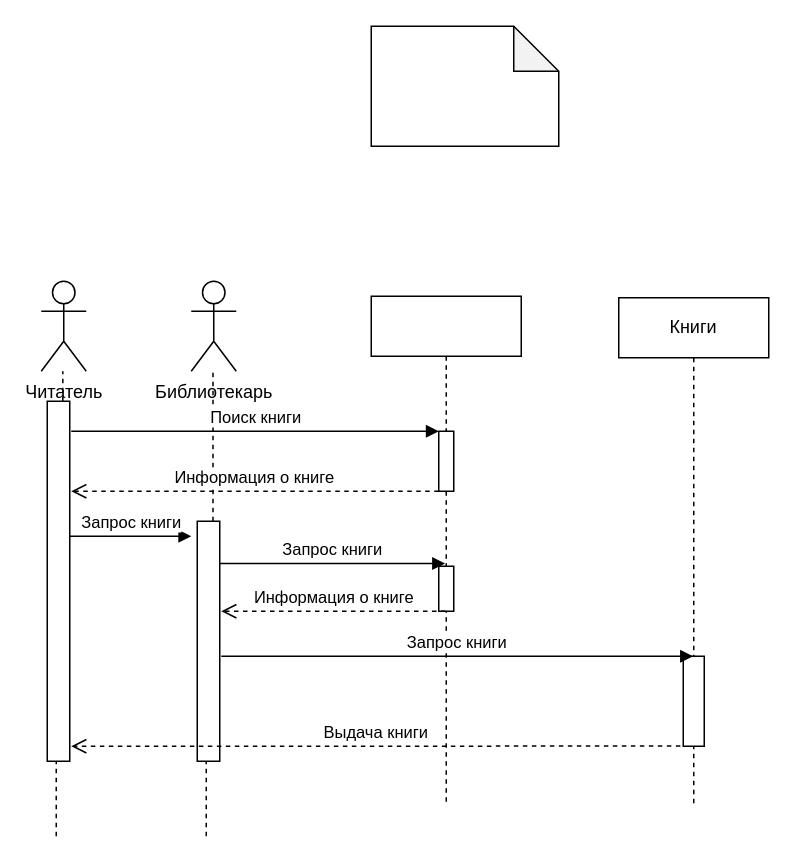
The diagram is 795 pixels wide and 864 high, and some of its shapes have lost their labels. Here are the shapes that lost their labels. From the top down, the centre of each, then its label:
At point (464, 85): "Получение кнги".
At point (445, 550): "BookInfo".
